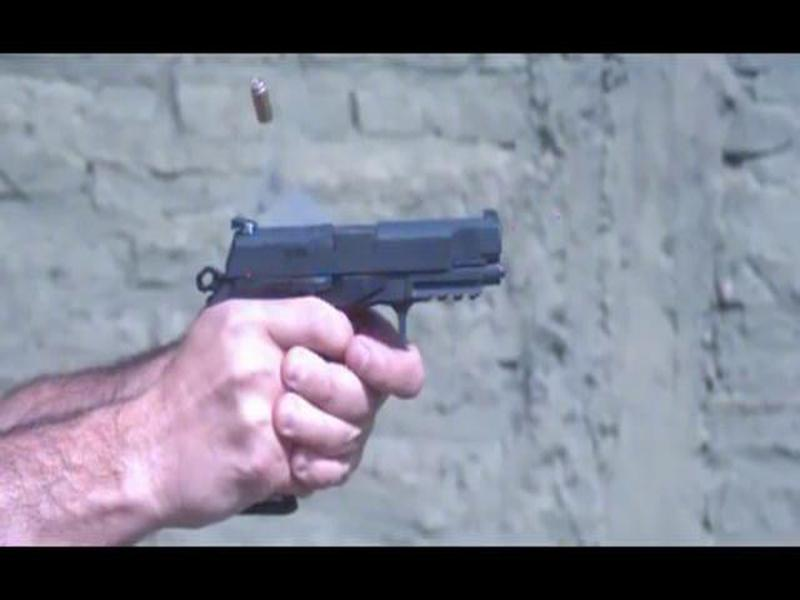Pistola: (184, 201, 518, 410)
